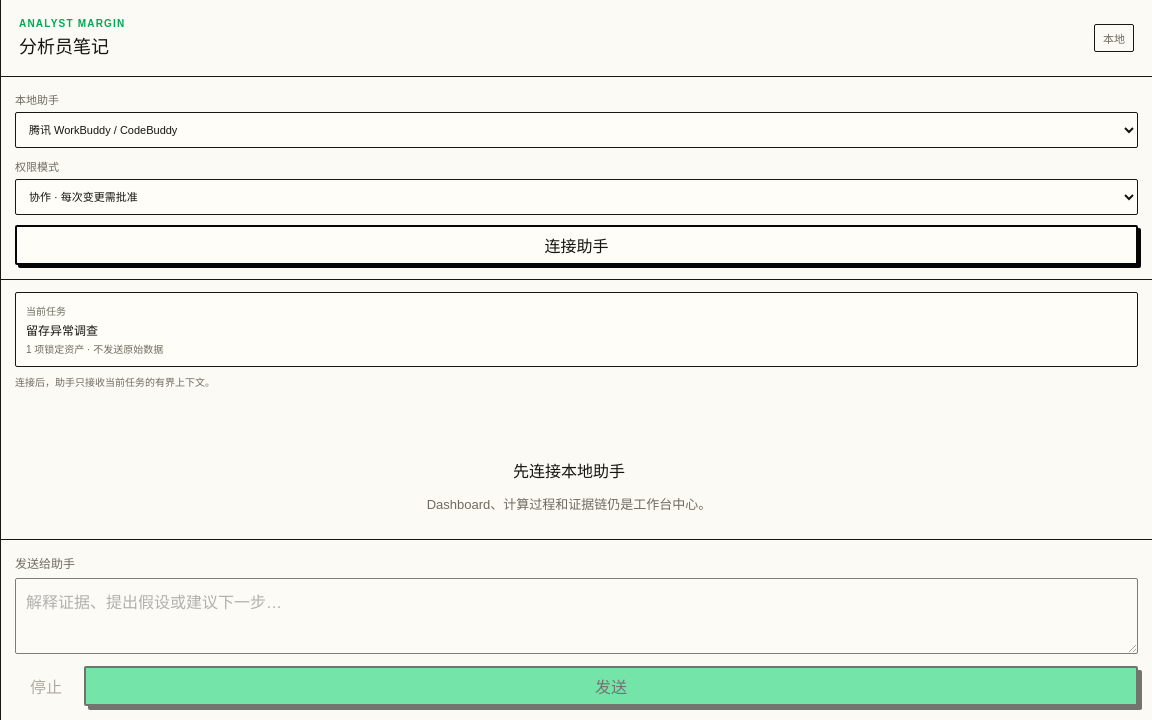
AssistantDrawer › aggregates streamed assistant and operation deltas
What coordinates should you click on to do the following:
click the button "连接助手"
I would click on:
 (576, 245)
Its box is top-left (15, 225), bottom-right (1138, 265).
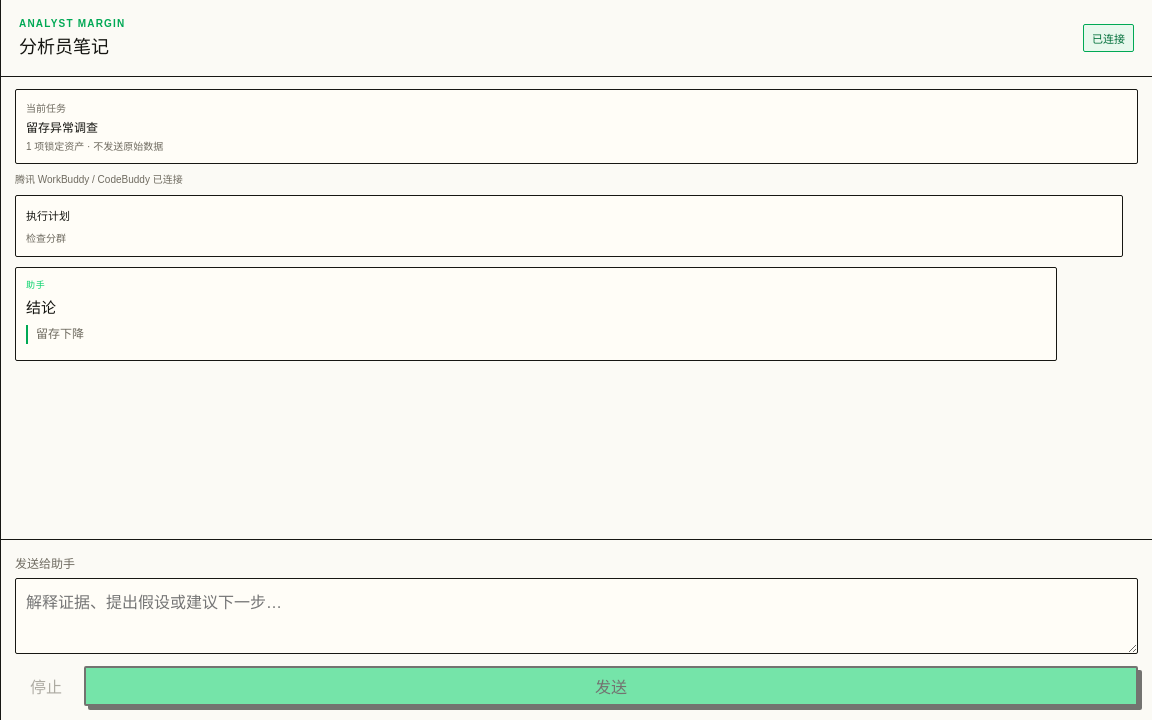
Result: the text "腾讯 WorkBuddy / CodeBuddy 已连接" is shown at top-left (15, 174), bottom-right (183, 185)
Result: the heading "结论" is shown at top-left (26, 299), bottom-right (56, 316)
Result: the text "留存下降" is shown at top-left (26, 325), bottom-right (1046, 344)
